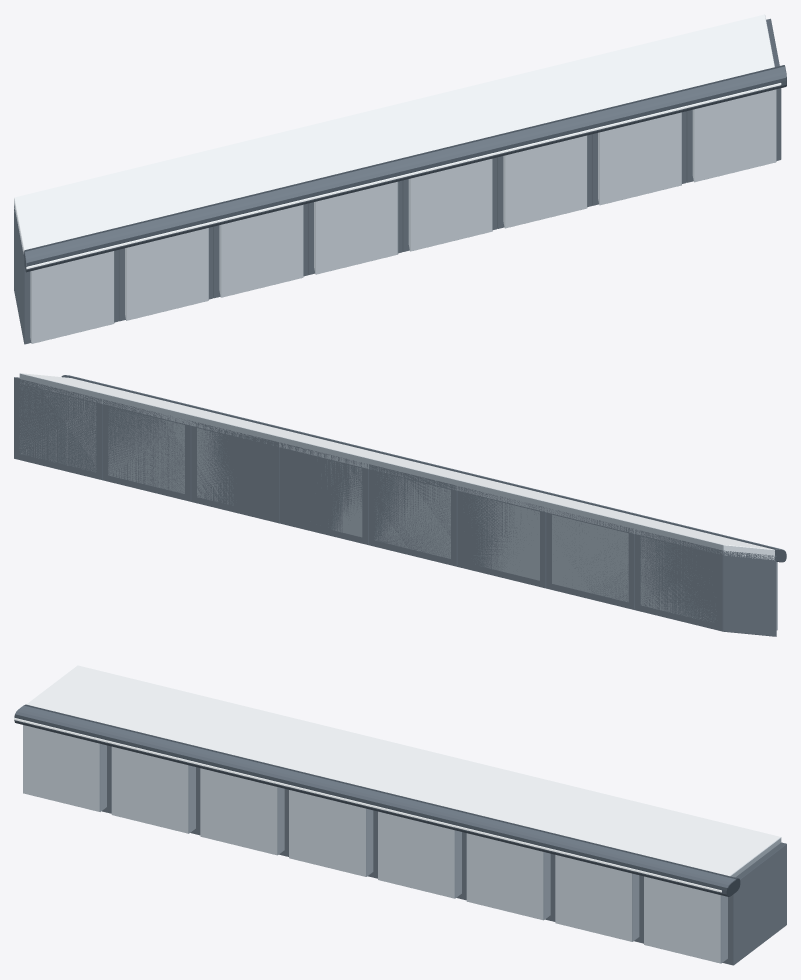
File: Terrain_TopRun8R.gltf
The picture shows the model from 3 angles, top to bottom: view 1: azimuth 30°, elevation 25°; view 2: azimuth 150°, elevation 25°; view 3: azimuth 330°, elevation 25°; orthographic projection. The views are drawn at different scales.
Visible parts, largest first — view 1: Terrain_TopRun8R_baked; view 2: Terrain_TopRun8R_baked; view 3: Terrain_TopRun8R_baked.
Part boxes in pixels (x1,y1,x2,y2): Terrain_TopRun8R_baked: (14, 14, 786, 344); Terrain_TopRun8R_baked: (14, 373, 786, 636); Terrain_TopRun8R_baked: (14, 665, 786, 965).
Bounding box in the file's own units: 8.29 × 1.18 × 0.74.
